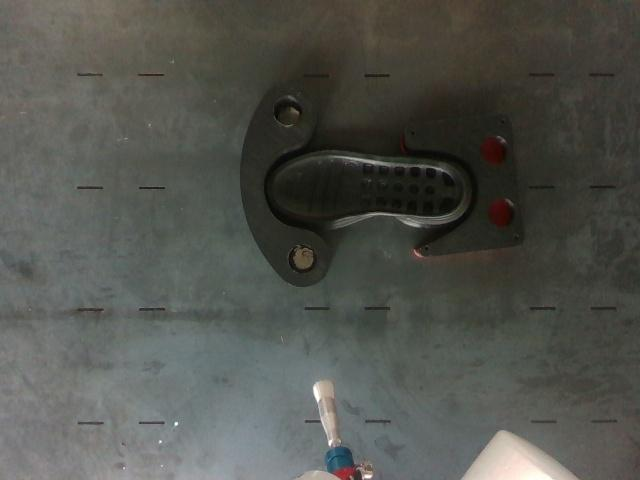shoes: (267, 150, 465, 222)
